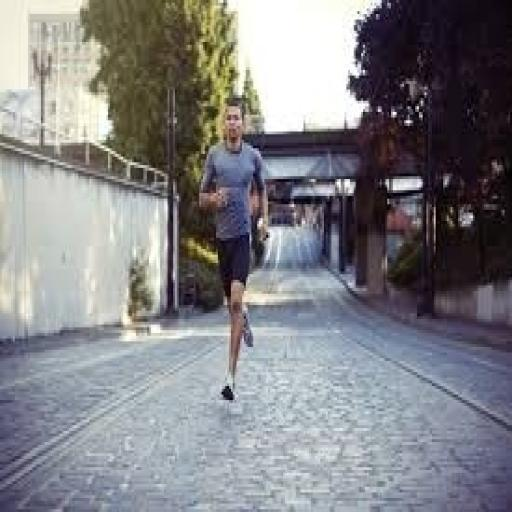running: (195, 95, 272, 406)
